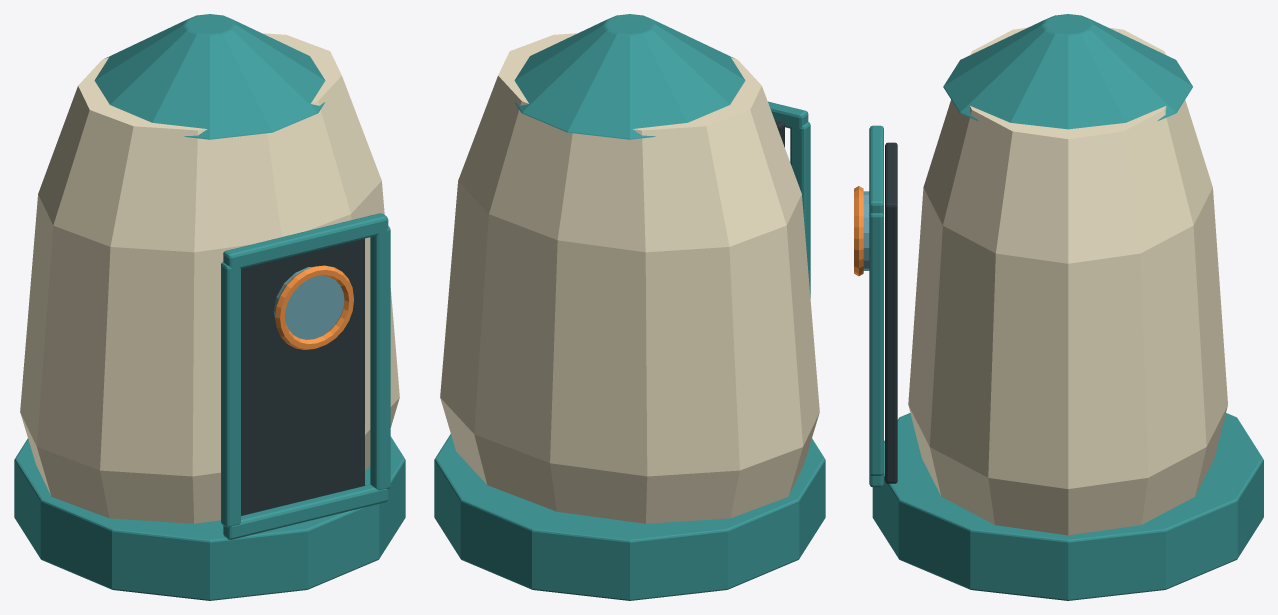
The model's file is S093_space_capsule.glb.
The picture shows the model from 3 angles, left to right: view 1: azimuth 30°, elevation 25°; view 2: azimuth 150°, elevation 25°; view 3: azimuth 270°, elevation 25°; orthographic projection.
Parts seen in each view (by area): view 1: capsule_lower_shell, capsule_base, capsule_hatch_back, capsule_nose, hatch_stile.001, hatch_stile, hatch_rail.001, hatch_rail, porthole, porthole_frame; view 2: capsule_lower_shell, capsule_base, capsule_nose, hatch_stile, hatch_rail.001; view 3: capsule_lower_shell, capsule_base, capsule_nose, capsule_hatch_back, hatch_stile.001, hatch_rail.001, porthole_frame, porthole.
Part boxes in pixels (x1,y1,x2,y2): capsule_lower_shell: (20, 33, 399, 523); capsule_base: (14, 436, 405, 600); capsule_hatch_back: (241, 238, 364, 515); capsule_nose: (94, 14, 325, 139); hatch_stile.001: (370, 226, 390, 490); hatch_stile: (221, 262, 240, 527); hatch_rail.001: (223, 213, 388, 268); hatch_rail: (223, 484, 388, 539); porthole: (273, 267, 344, 339); porthole_frame: (275, 265, 353, 349); capsule_lower_shell: (440, 33, 819, 523); capsule_base: (434, 434, 825, 600); capsule_nose: (514, 14, 745, 139); hatch_stile: (790, 122, 810, 297); hatch_rail.001: (768, 101, 808, 128); capsule_lower_shell: (908, 27, 1227, 535); capsule_base: (872, 413, 1263, 600); capsule_nose: (943, 14, 1192, 129); capsule_hatch_back: (885, 142, 897, 483); hatch_stile.001: (869, 213, 883, 475); hatch_rail.001: (869, 125, 883, 214); porthole_frame: (854, 186, 863, 276); porthole: (863, 191, 869, 270).
Size of the model in its own units: 1.9 by 2.6 by 1.95.
